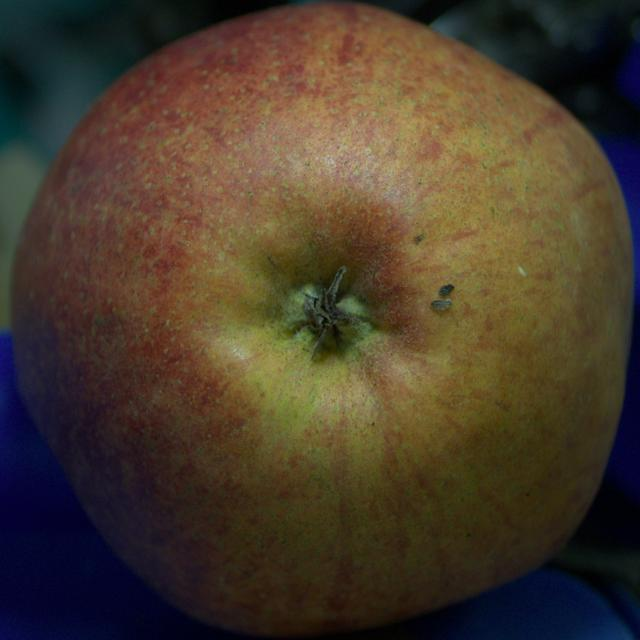apple: (11, 3, 632, 636)
pest: (431, 299, 452, 311), (438, 284, 454, 297), (414, 234, 424, 244)
